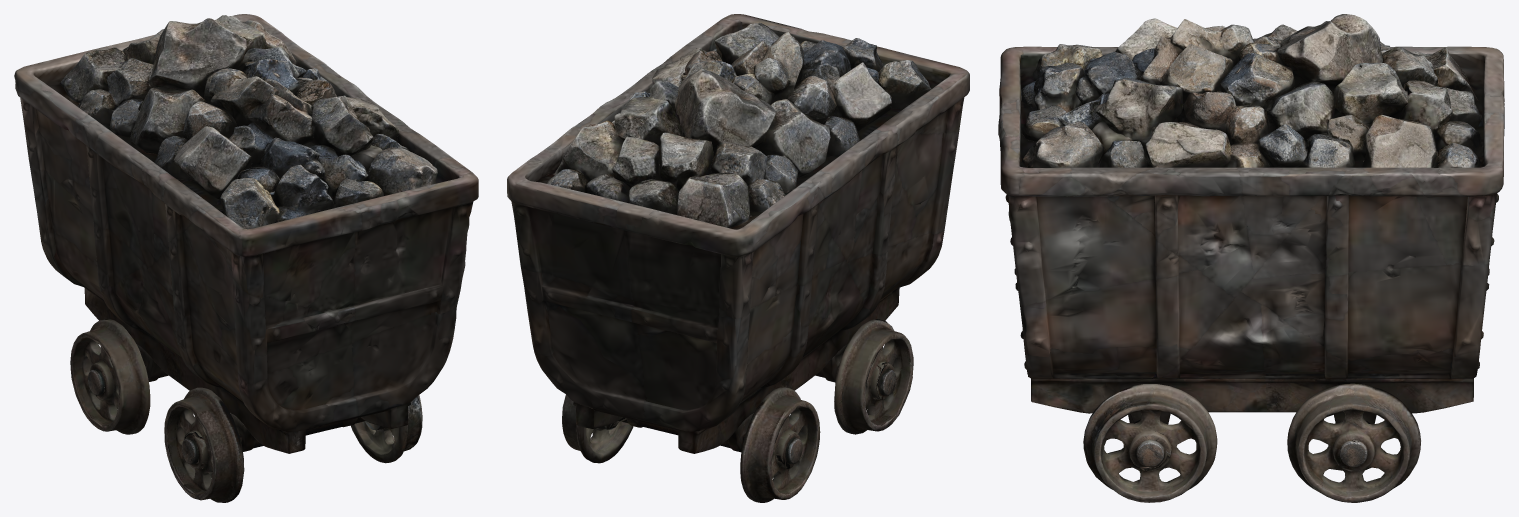
The model's file is portal_12.glb.
3 renders of one model, left to right at view 1: azimuth 30°, elevation 25°; view 2: azimuth 150°, elevation 25°; view 3: azimuth 270°, elevation 25°, orthographic. The views are drawn at different scales.
Size of the model in its own units: 0.5947 by 0.9221 by 0.9774.
Materials: 58 (58 with a texture image).
